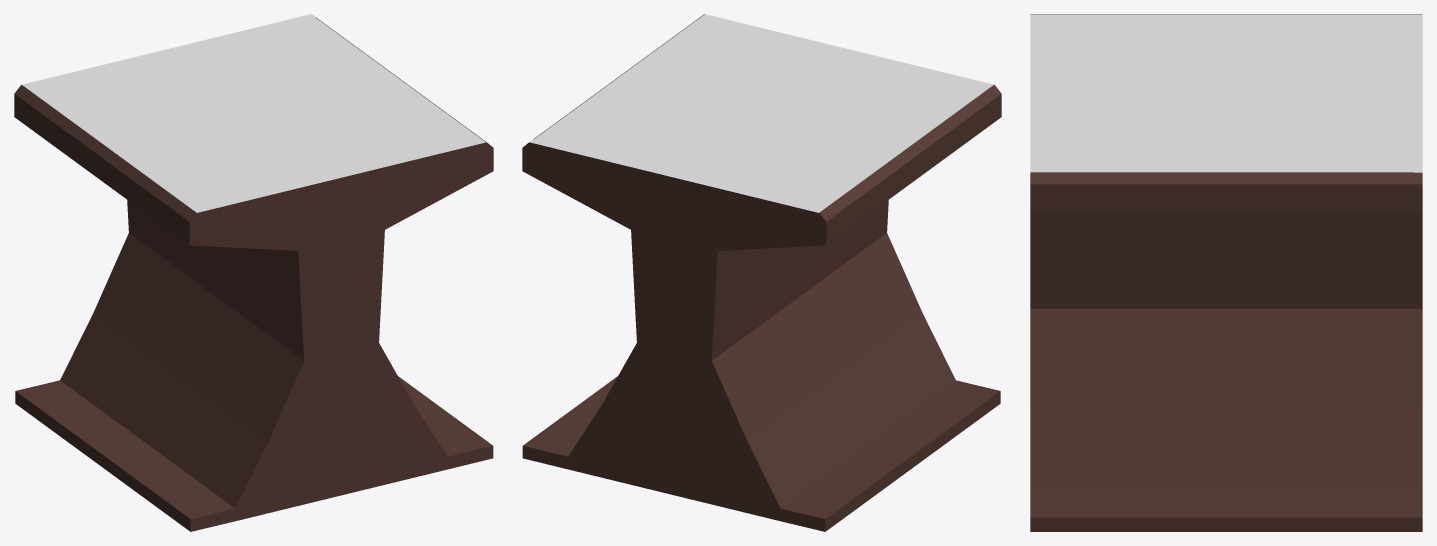
Rendered from MainBench.fbx.
The picture shows the model from 3 angles, left to right: view 1: azimuth 30°, elevation 25°; view 2: azimuth 150°, elevation 25°; view 3: azimuth 270°, elevation 25°; orthographic projection. The views are drawn at different scales.
Parts seen in each view (by area): view 1: LongBench; view 2: LongBench; view 3: LongBench.
Part boxes in pixels (x1,y1,x2,y2): LongBench: (14, 14, 493, 531); LongBench: (522, 14, 1001, 531); LongBench: (1030, 14, 1422, 531).
Size of the model in its own units: 200 by 200 by 200.
